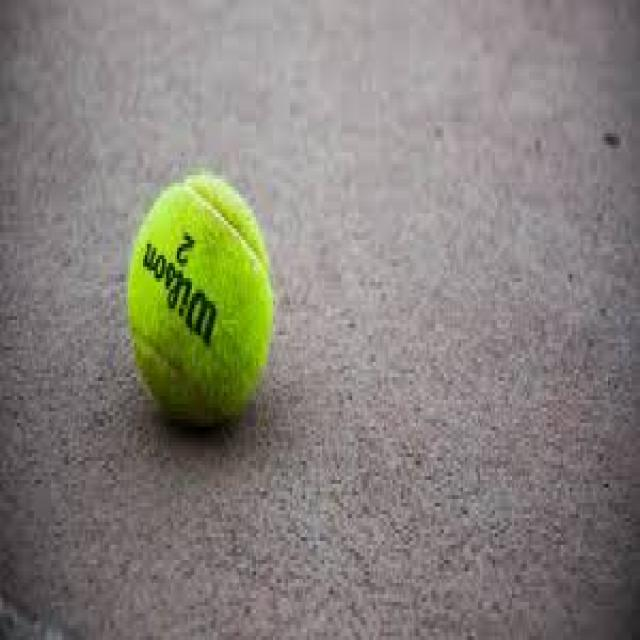Tennis-Ball: (126, 178, 280, 442)
